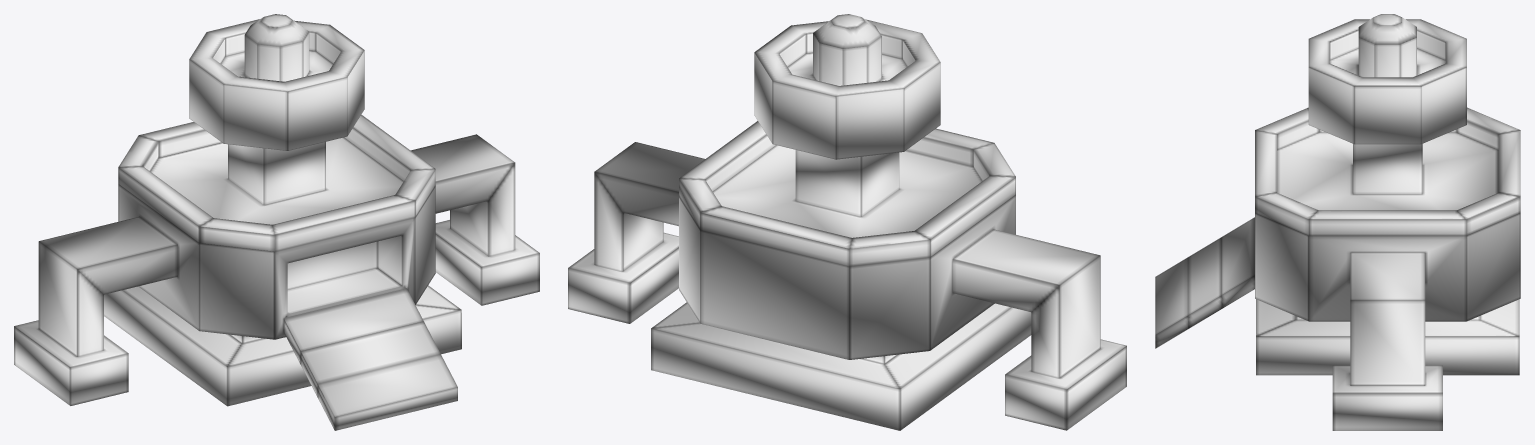
The model's file is Armory-01.fbx.
The picture shows the model from 3 angles, left to right: view 1: azimuth 30°, elevation 25°; view 2: azimuth 150°, elevation 25°; view 3: azimuth 270°, elevation 25°; orthographic projection. The views are drawn at different scales.
Visible parts, largest first — view 1: Armory-01; view 2: Armory-01; view 3: Armory-01.
Boxes of the visible parts, box(x1,y1,x2,y2) form: Armory-01: box(14, 14, 539, 430); Armory-01: box(568, 14, 1126, 430); Armory-01: box(1155, 14, 1520, 430).
Bounding box in the file's own units: 2 × 1.25 × 1.39.
